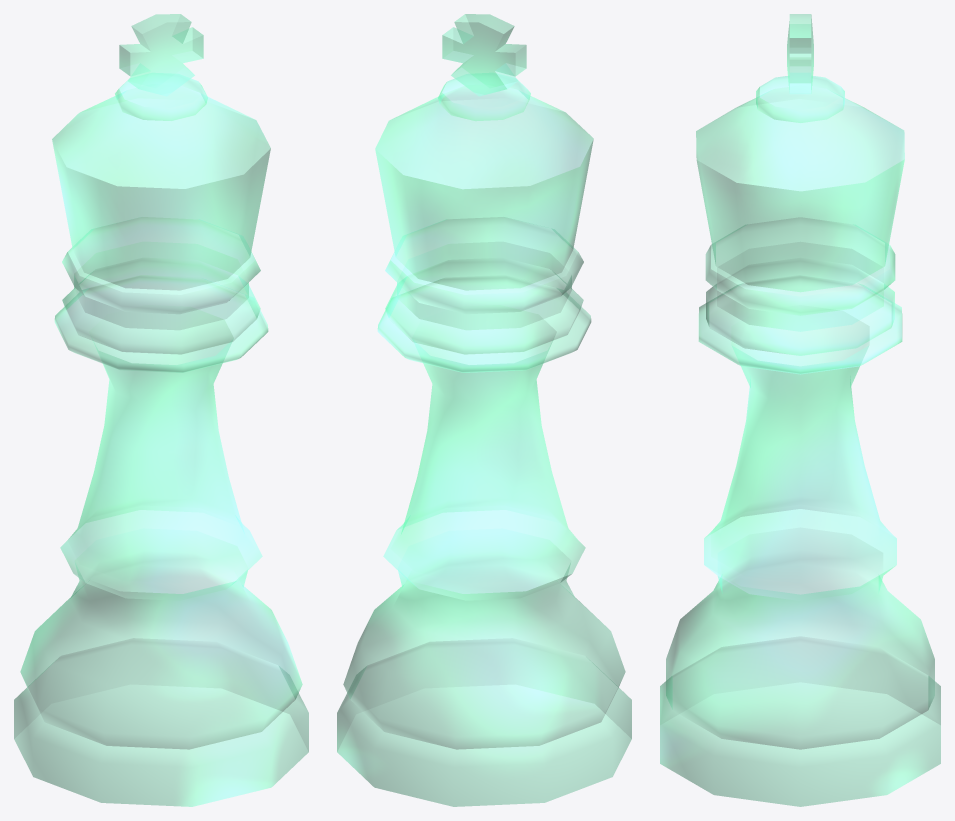
The model's file is item-5-13.glb.
3 renders of one model, left to right at view 1: azimuth 30°, elevation 25°; view 2: azimuth 150°, elevation 25°; view 3: azimuth 270°, elevation 25°, orthographic.
Visible parts, largest first — view 1: BlackKing; view 2: BlackKing; view 3: BlackKing.
Boxes of the visible parts, x1,y1,x2,y2 form: BlackKing: [14, 14, 308, 806]; BlackKing: [337, 14, 631, 806]; BlackKing: [660, 14, 940, 806].
Size of the model in its own units: 0.0886 by 0.2399 by 0.0843.
